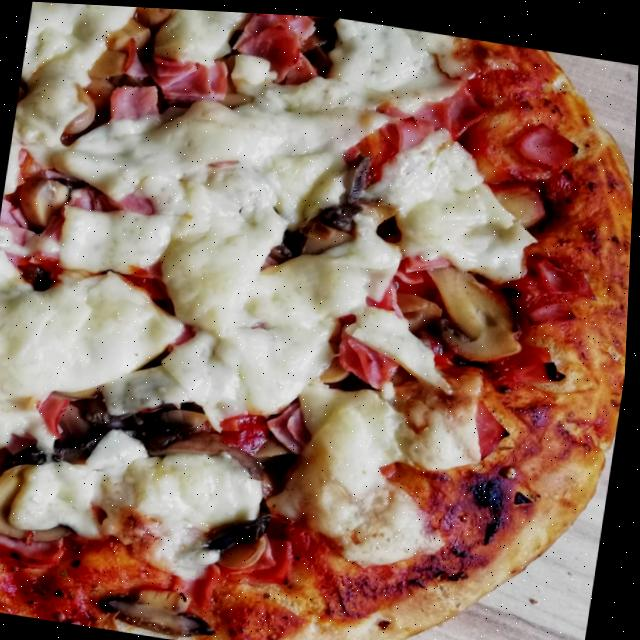mushrooms: (416, 251, 539, 365), (127, 395, 296, 474), (0, 446, 89, 552), (92, 573, 229, 640), (190, 499, 281, 574), (52, 390, 133, 466), (8, 159, 83, 234), (286, 196, 365, 264), (0, 422, 69, 476), (325, 147, 379, 208), (126, 5, 179, 30)
pizza: (0, 0, 640, 640)
